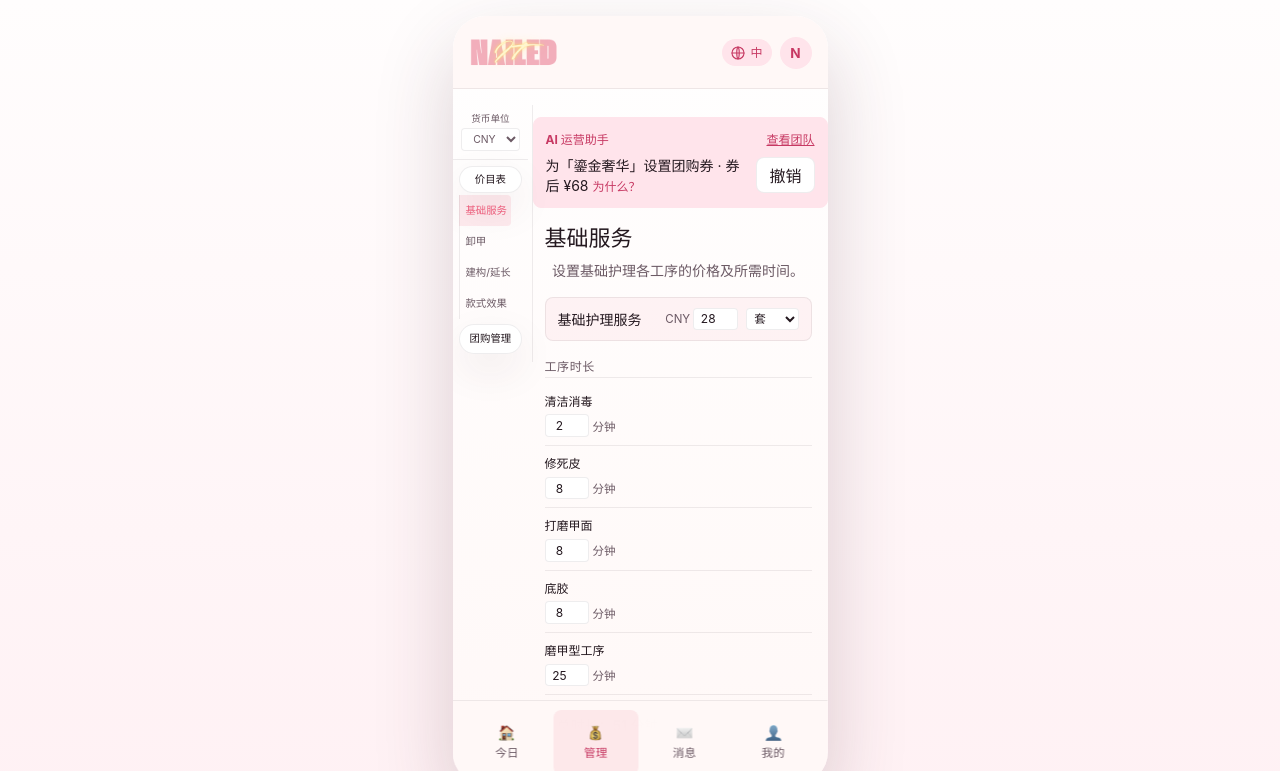
Test case: MerchantManagePage › opens detail view when clicking 查看 on a mock deal
Expected: the number field named "基础护理服务 单价" is shown, left=693, top=308, right=738, bottom=330
Click the button "团购管理".
click(490, 339)  # box left=459, top=324, right=522, bottom=354
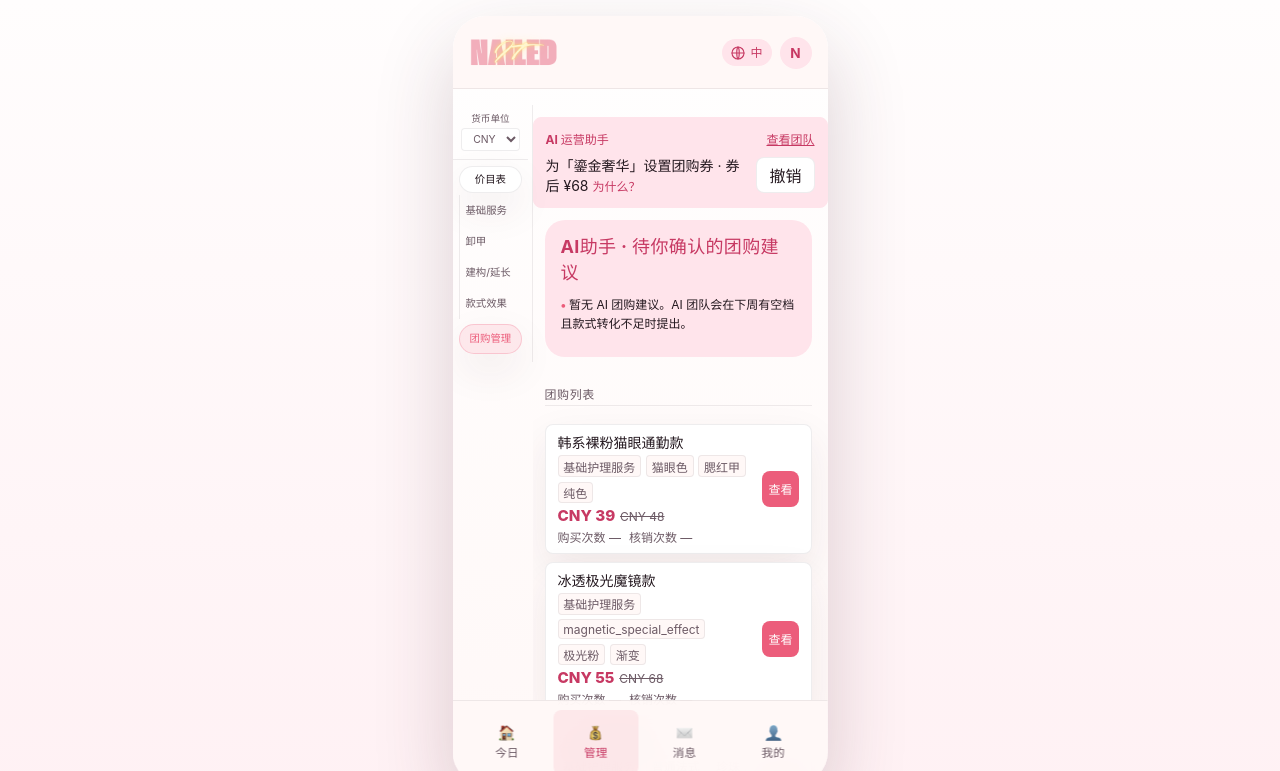
Click the button "查看" next to "腮红甲".
click(780, 489)  # box left=762, top=471, right=798, bottom=507
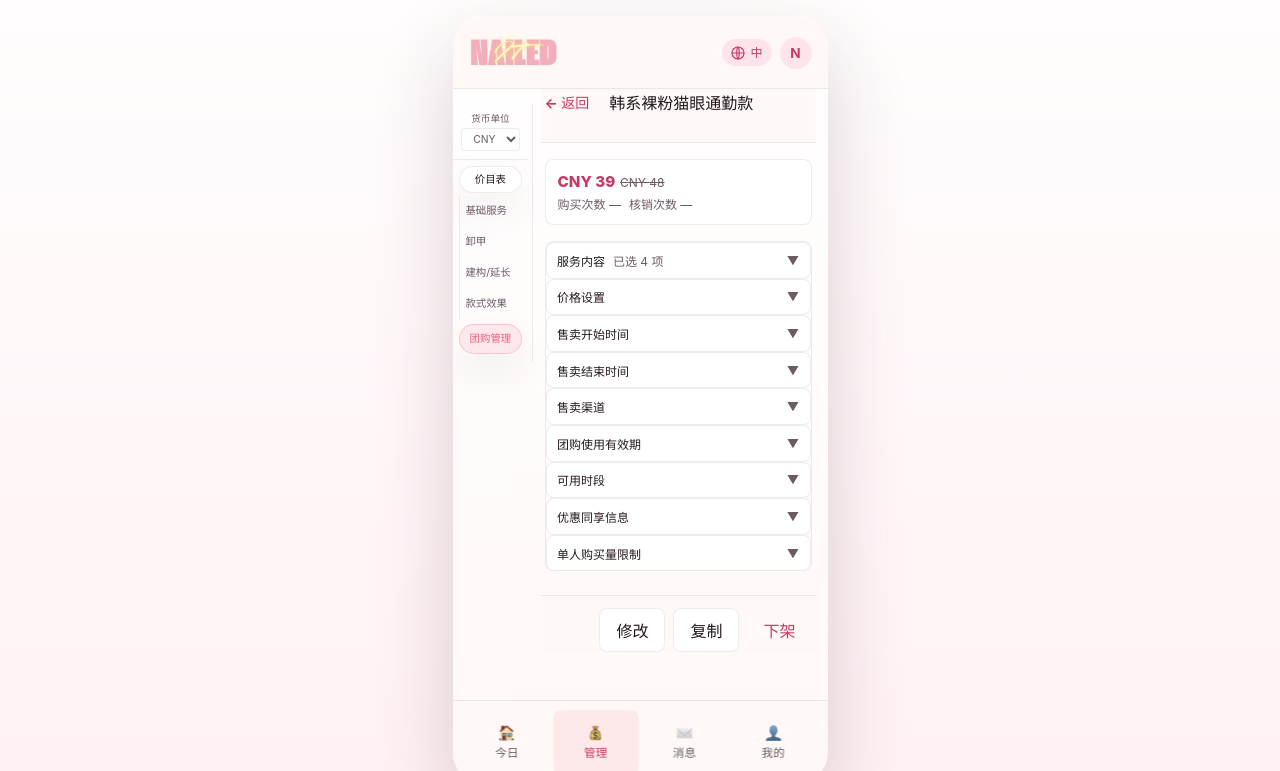
Expected: the button "← 返回" is shown, left=544, top=89, right=597, bottom=120
Expected: the button "修改" is shown, left=600, top=608, right=666, bottom=652
Expected: the button "复制" is shown, left=674, top=608, right=740, bottom=652
